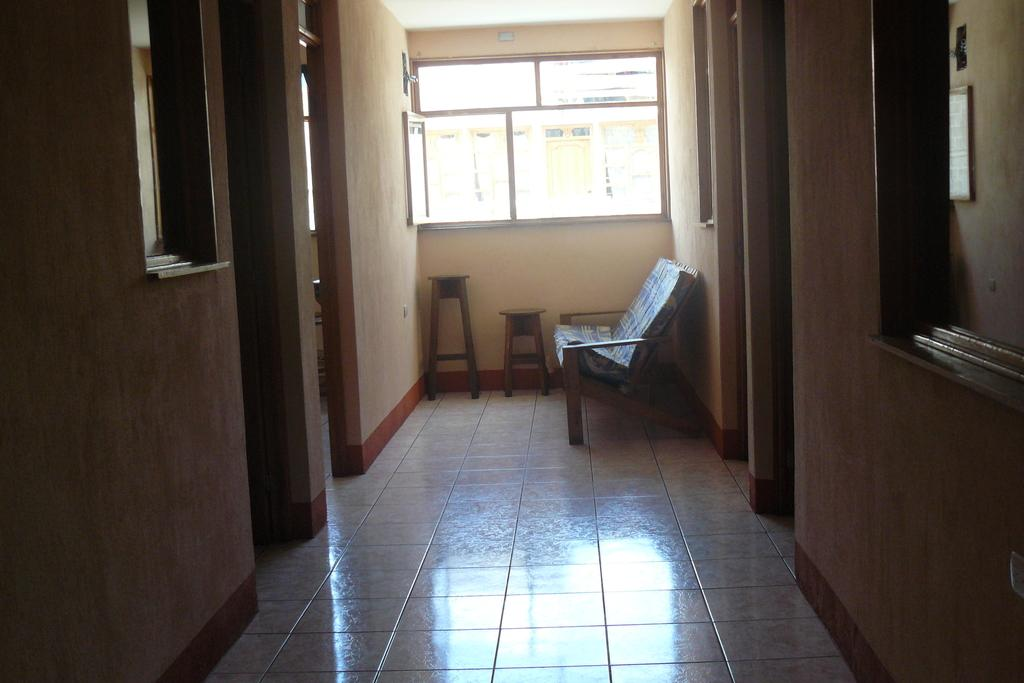Chair: (554, 252, 701, 438)
